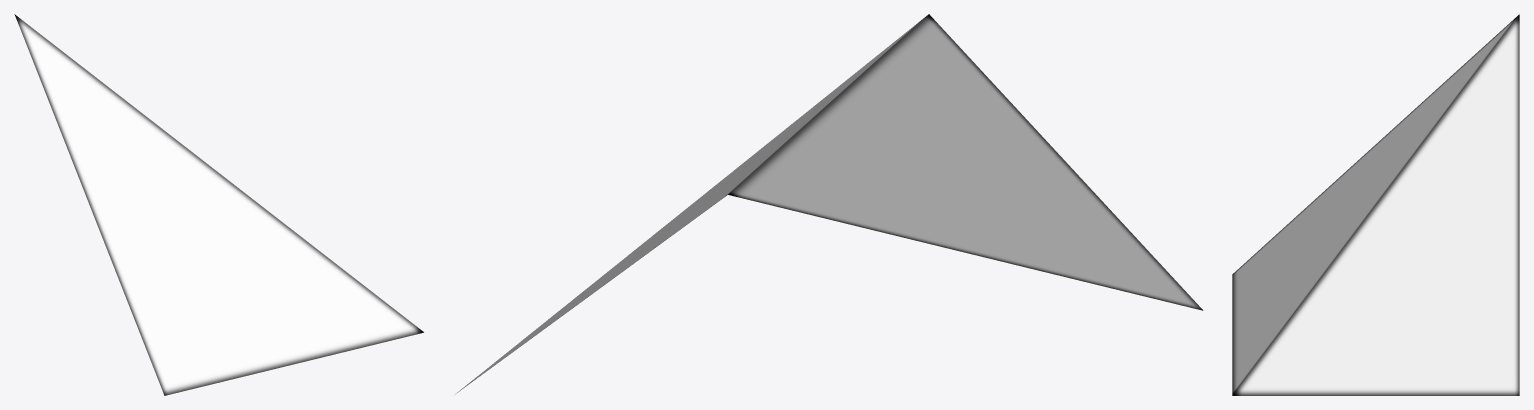
The model's file is corner_2-slope_outside_0-side.fbx.
3 views of the same model, side by side, from view 1: azimuth 30°, elevation 25°; view 2: azimuth 150°, elevation 25°; view 3: azimuth 270°, elevation 25° (orthographic). The views are drawn at different scales.
Parts seen in each view (by area): view 1: corner_2-slope_outside_0-side; view 2: corner_2-slope_outside_0-side; view 3: corner_2-slope_outside_0-side.
Boxes of the visible parts, <box> form: corner_2-slope_outside_0-side: <box>14,14,423,395</box>; corner_2-slope_outside_0-side: <box>456,14,1203,393</box>; corner_2-slope_outside_0-side: <box>1232,14,1519,395</box>.
Bounding box in the file's own units: 100 × 100 × 100.
